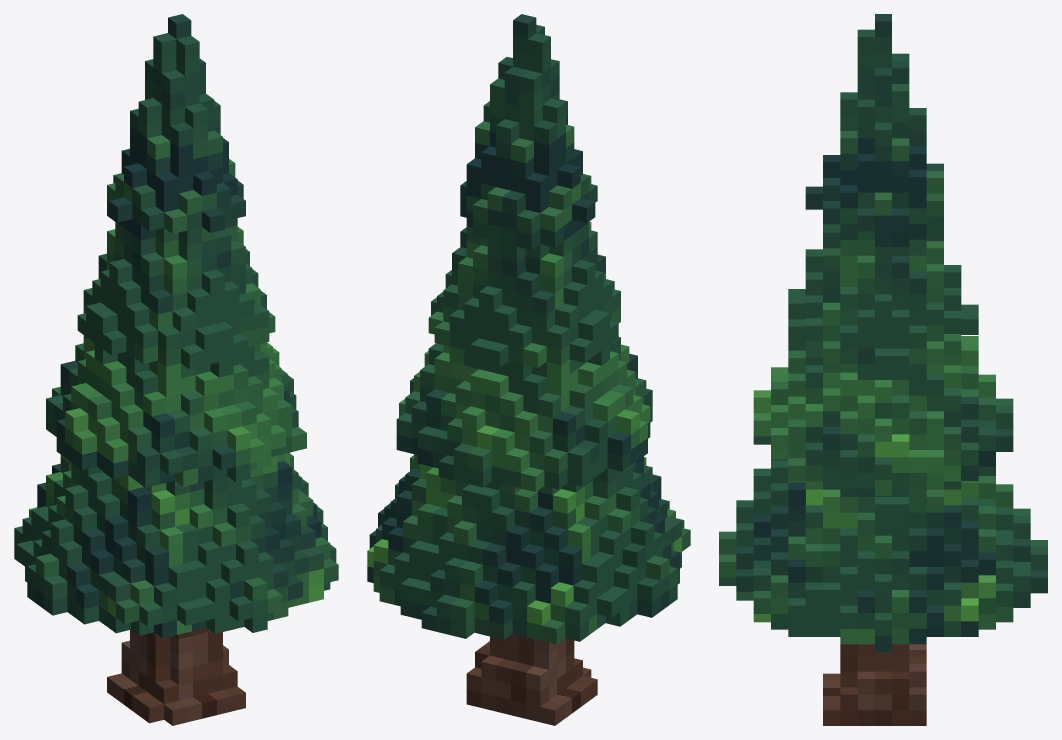
File: Conifer5.fbx
The picture shows the model from 3 angles, left to right: view 1: azimuth 30°, elevation 25°; view 2: azimuth 150°, elevation 25°; view 3: azimuth 270°, elevation 25°; orthographic projection. The views are drawn at different scales.
Visible parts, largest first — view 1: Conifer5; view 2: Conifer5; view 3: Conifer5.
Boxes of the visible parts, <box> form: Conifer5: <box>14,14,338,725</box>; Conifer5: <box>367,14,690,725</box>; Conifer5: <box>719,14,1047,725</box>.
Size of the model in its own units: 1.9 by 4.4 by 1.9.
1 material, 1 textured.
